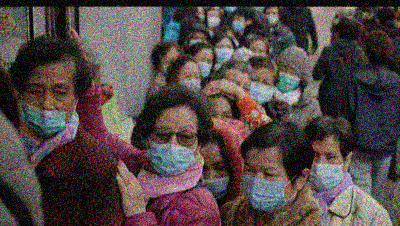mask_weared_incorrect: (19, 77, 75, 135)
with_mask: (149, 120, 196, 177), (240, 159, 290, 211), (308, 146, 344, 191), (200, 155, 229, 198), (249, 73, 274, 105), (275, 66, 301, 93), (177, 71, 203, 93), (213, 41, 233, 63), (195, 54, 213, 78), (231, 17, 247, 32), (206, 14, 221, 28), (265, 12, 280, 25)
